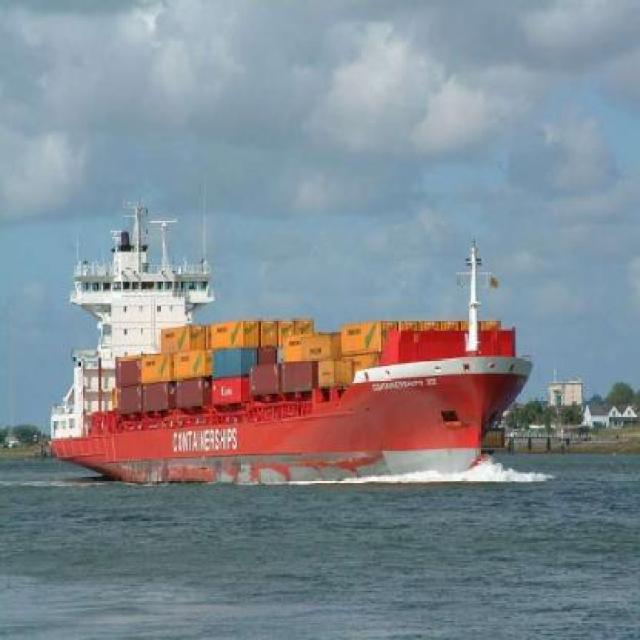ship: (41, 240, 533, 475)
